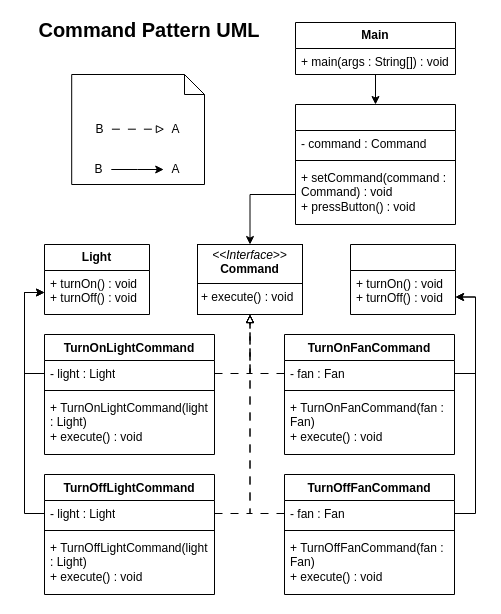
This 501x614 diagram has some shape labels left out. The shapes that lost their labels are listed below. From the top down, each one's box as (x1, y1, x2, y2) in pixels, then its label:
(71, 74, 204, 184): Legend B Implements A B uses/creates A
(294, 104, 456, 224): CentralHub
(350, 244, 456, 314): Fan
